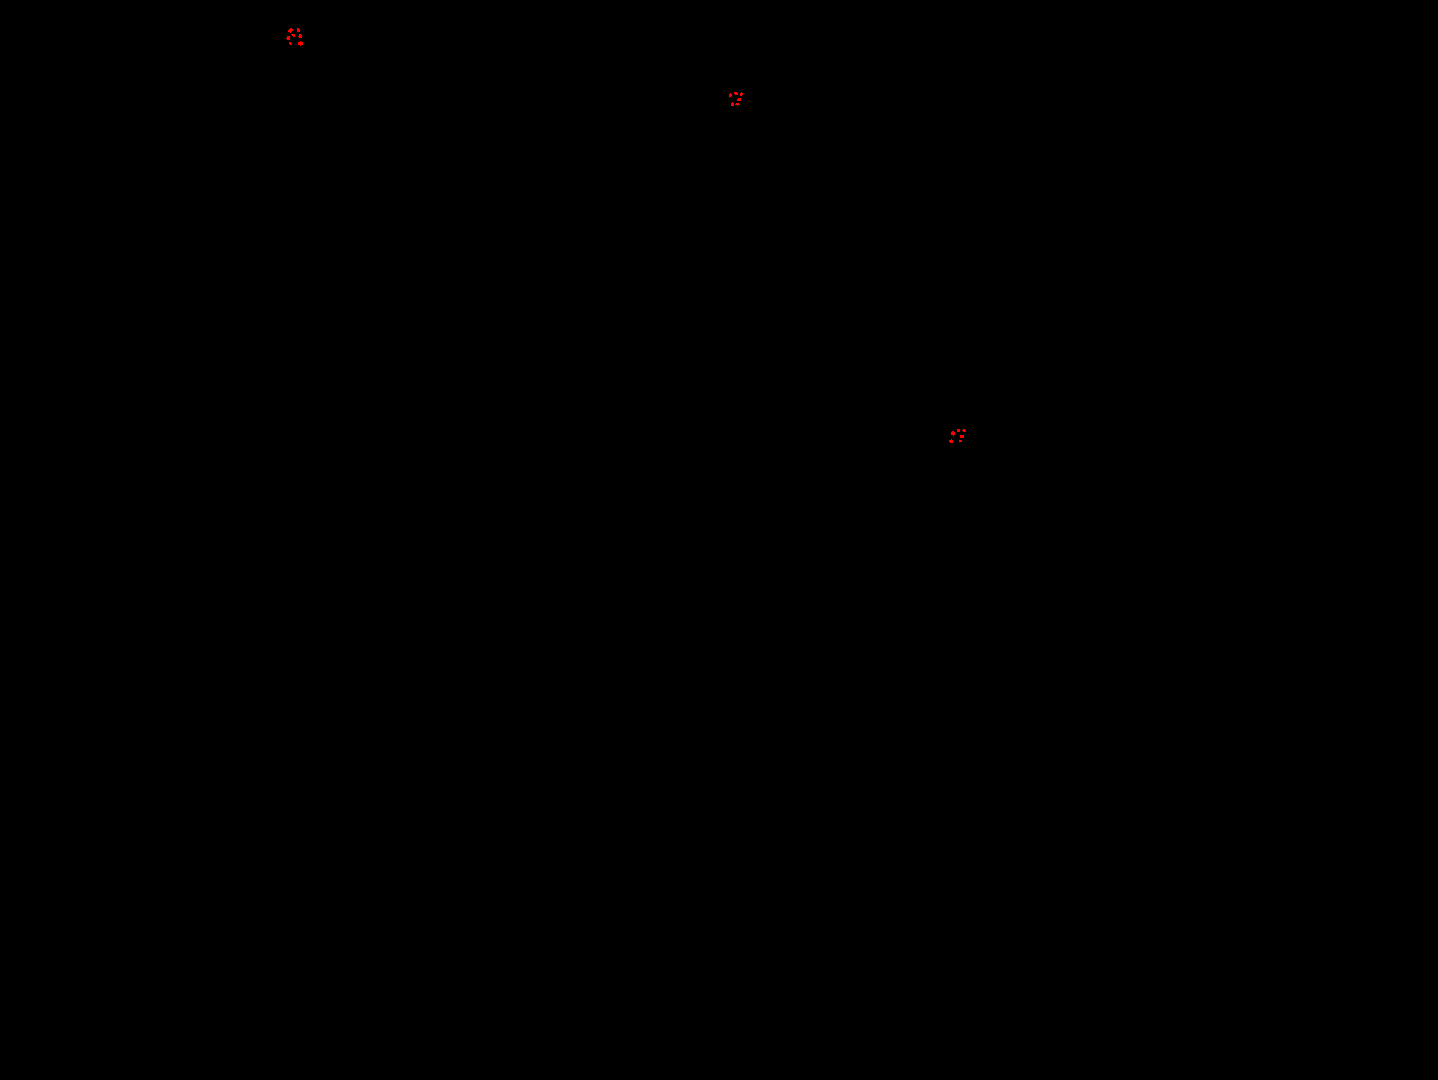Target: (298, 41, 303, 47), (288, 28, 293, 33), (286, 36, 290, 40), (734, 92, 738, 95), (962, 429, 966, 432), (951, 431, 955, 436), (735, 103, 741, 106), (297, 28, 301, 32), (291, 34, 295, 37), (298, 34, 302, 37), (737, 98, 741, 101), (957, 429, 961, 432), (961, 434, 964, 438), (949, 439, 953, 442), (741, 92, 743, 96), (729, 93, 731, 98), (289, 42, 291, 45), (731, 102, 734, 106), (959, 440, 962, 442)
